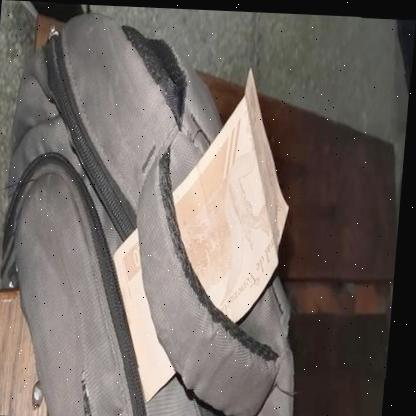twenty-back-vef: (109, 59, 304, 406)
